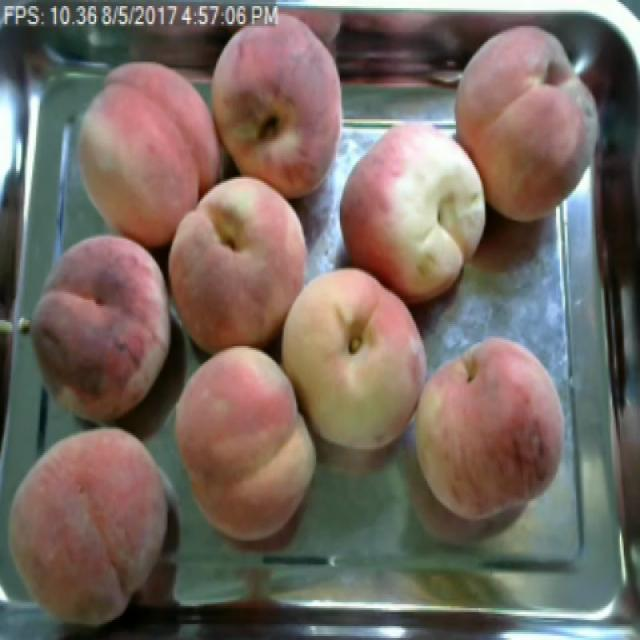Fruit: (0, 415, 184, 640), (436, 8, 612, 238), (400, 328, 579, 533), (267, 253, 440, 461), (328, 115, 507, 316), (167, 336, 329, 550), (69, 52, 239, 254), (19, 223, 174, 441), (202, 8, 354, 215), (164, 167, 321, 364)
